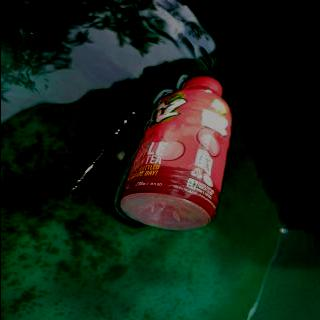bottle: (117, 76, 234, 230)
